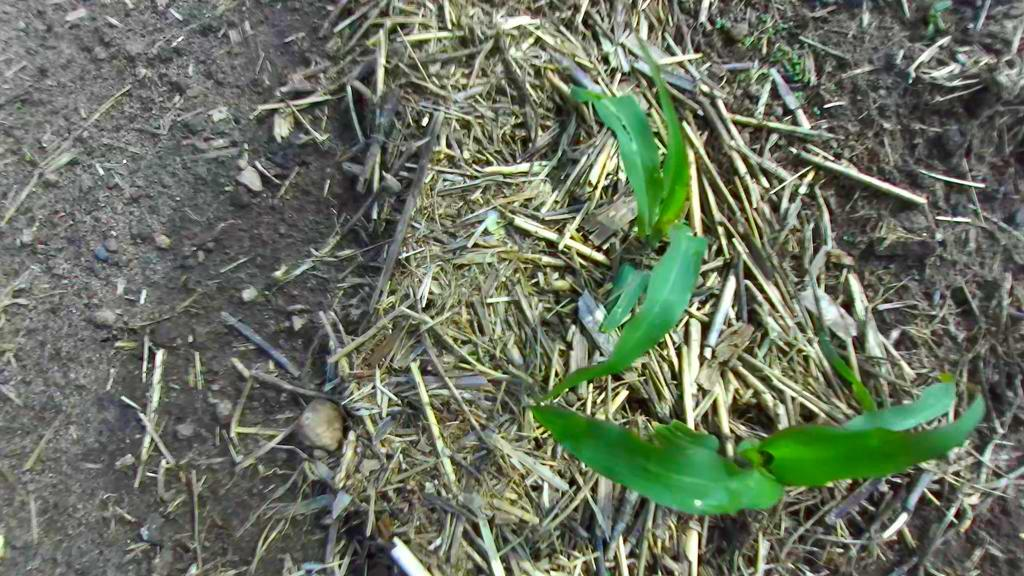BroWeed: (952, 42, 976, 67), (728, 68, 750, 91), (769, 42, 788, 65), (780, 59, 802, 75), (626, 219, 642, 239), (777, 20, 794, 31), (741, 34, 751, 46), (812, 105, 822, 116), (791, 54, 801, 64), (790, 72, 801, 81), (767, 27, 776, 38), (715, 17, 723, 29), (539, 361, 545, 377), (759, 13, 769, 22), (224, 185, 233, 192), (794, 91, 802, 96)
Maize: (527, 281, 998, 560), (542, 32, 708, 401)
